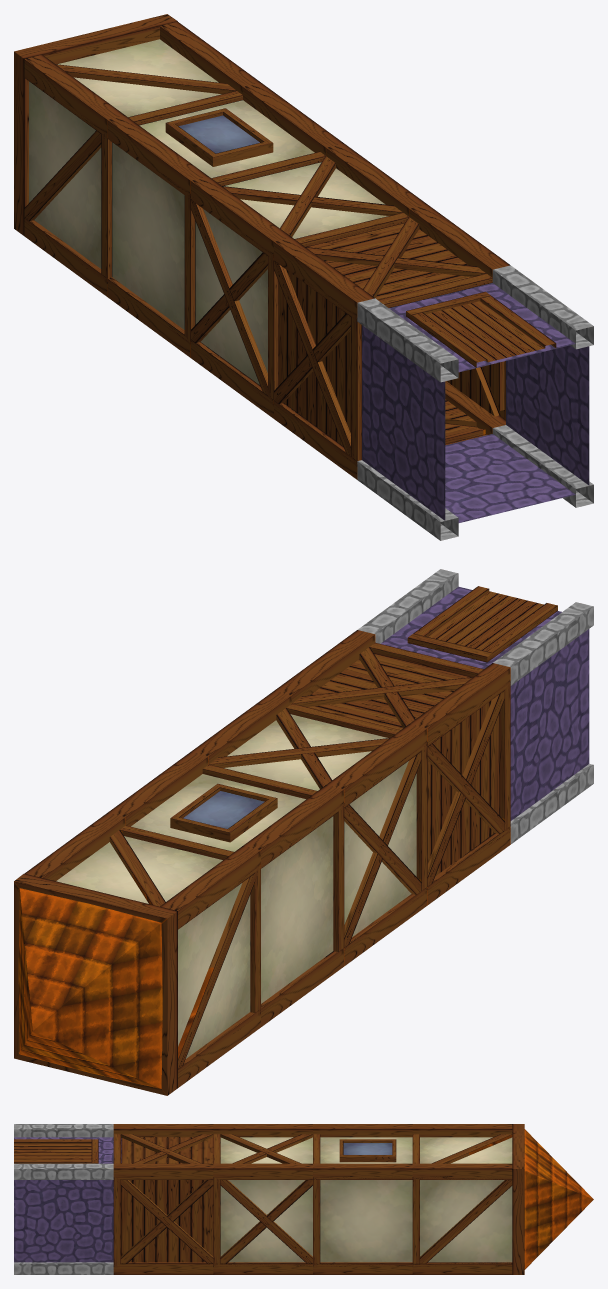
Rendered from Medieval_House_03.fbx.
3 views of the same model, one above another, from view 1: azimuth 30°, elevation 25°; view 2: azimuth 150°, elevation 25°; view 3: azimuth 270°, elevation 25° (orthographic). The views are drawn at different scales.
Parts seen in each view (by area): view 1: Medieval_House_03; view 2: Medieval_House_03; view 3: Medieval_House_03.
Boxes of the visible parts, left/top/right/bottom form: Medieval_House_03: left=14, top=14, right=593, bottom=540; Medieval_House_03: left=14, top=569, right=593, bottom=1095; Medieval_House_03: left=14, top=1124, right=593, bottom=1274.
Bounding box in the file's own units: 272 × 299 × 1482.
